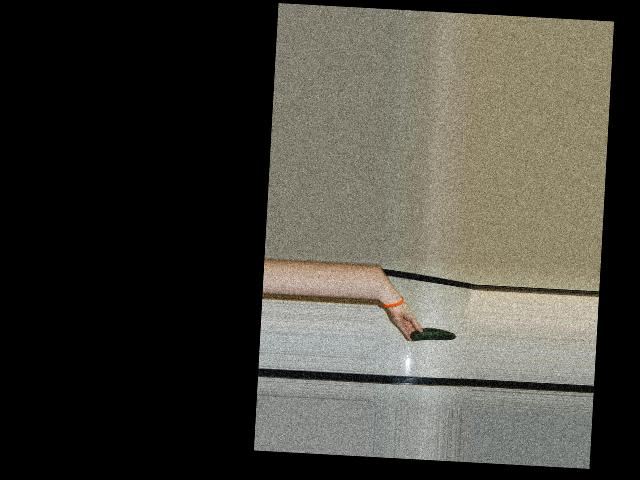cucumber: (409, 327, 456, 343)
